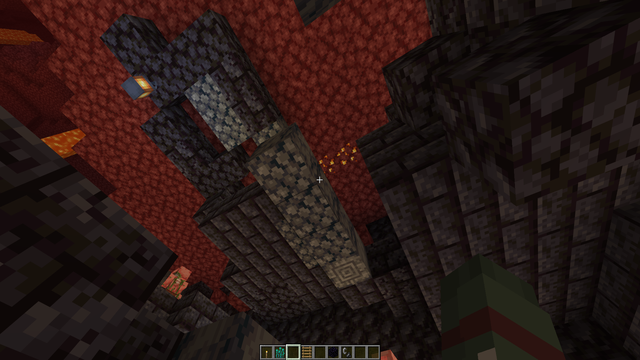nethergold: (315, 141, 364, 175)
